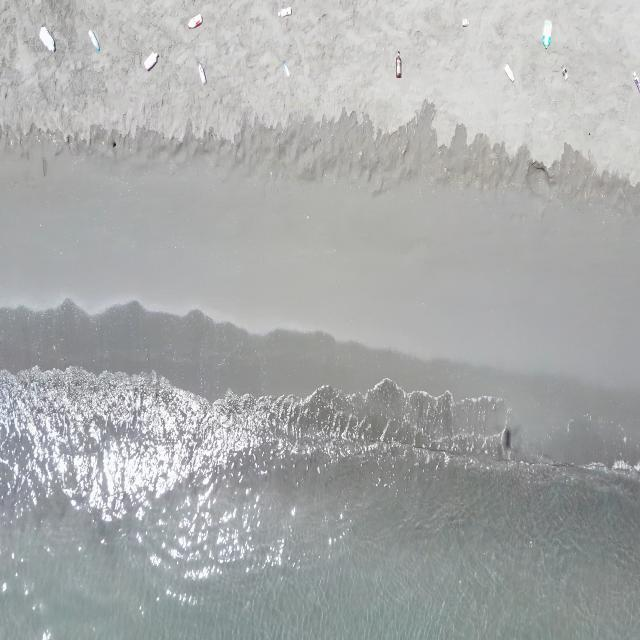Garbage: (40, 27, 54, 51), (540, 20, 551, 48), (143, 51, 158, 70), (88, 30, 99, 51), (187, 13, 201, 27), (278, 5, 291, 16), (632, 71, 639, 91), (504, 64, 512, 81), (395, 51, 400, 77), (200, 63, 206, 83), (281, 62, 287, 76), (562, 65, 567, 79), (463, 18, 468, 27)
